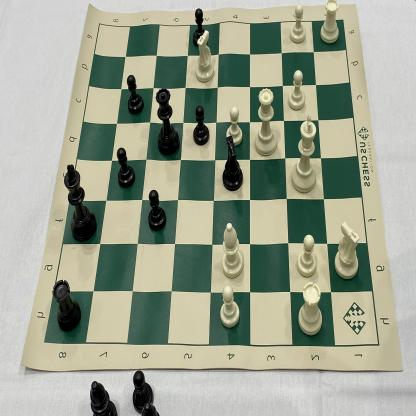black-king: (63, 159, 101, 244)
black-knight: (220, 135, 246, 192)
black-pawn: (144, 186, 168, 232), (116, 144, 138, 192), (124, 72, 148, 116), (192, 104, 212, 148), (190, 6, 209, 48)
black-queen: (154, 85, 181, 158)
black-rook: (52, 275, 84, 332)
white-bishop: (220, 218, 248, 280)
white-king: (288, 112, 320, 194)
white-knight: (334, 218, 365, 280), (192, 29, 220, 83)
white-pawn: (218, 282, 243, 330), (295, 233, 319, 280), (288, 0, 310, 46), (223, 104, 246, 148), (287, 68, 307, 115)
white-queen: (252, 86, 280, 156)
white-rook: (296, 281, 325, 338), (318, 0, 344, 45)
